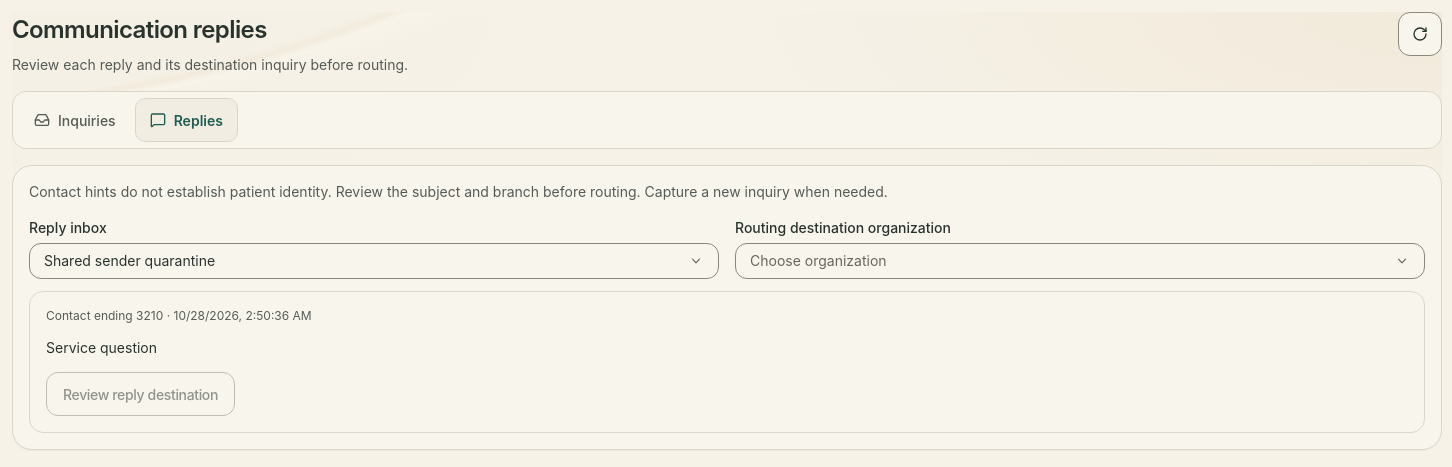
Explicit reply review interface › requires root to choose a destination organization for shared quarantine
The image size is (1452, 467).
Expected: the button "Review reply destination" is disabled, [46, 372, 235, 416]
Click the dropdown named "Routing destination organization": coordinates (818, 261) [735, 243, 1425, 279]
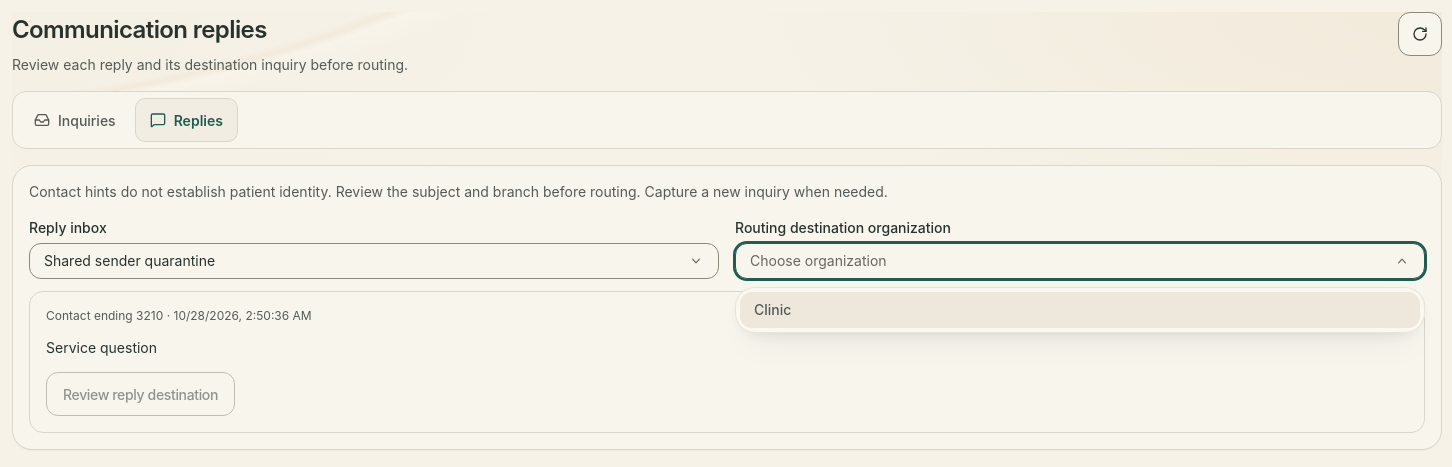
Click the option "Clinic": coordinates (773, 310) [740, 292, 1420, 328]
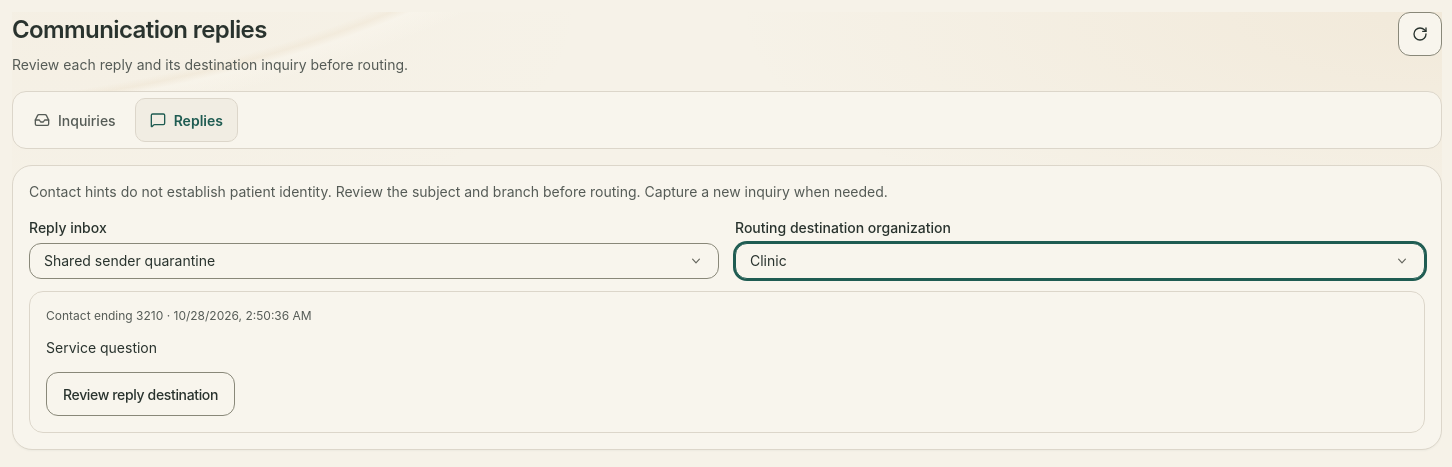
Expected: the button "Review reply destination" is enabled, [46, 372, 235, 416]
